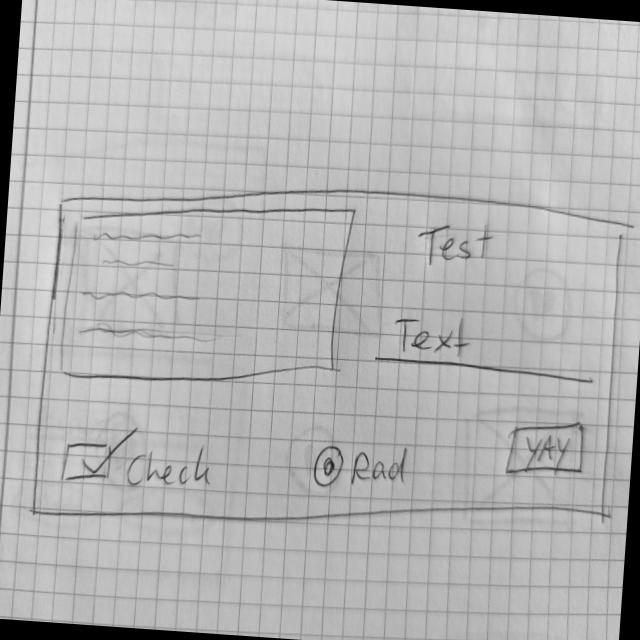button: (496, 412, 588, 482)
checkbox: (59, 422, 214, 494)
container: (26, 162, 630, 560)
input: (372, 306, 602, 389)
label: (414, 215, 496, 273)
radio: (307, 436, 415, 495)
textbox: (53, 184, 360, 398)
